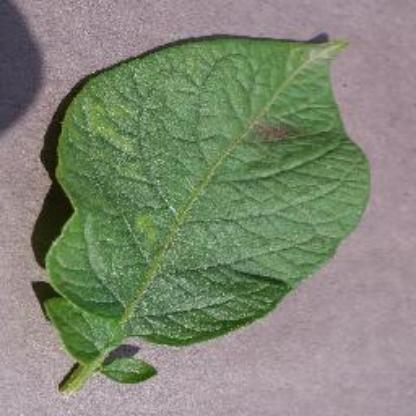Late-Blight: (38, 18, 376, 398)
